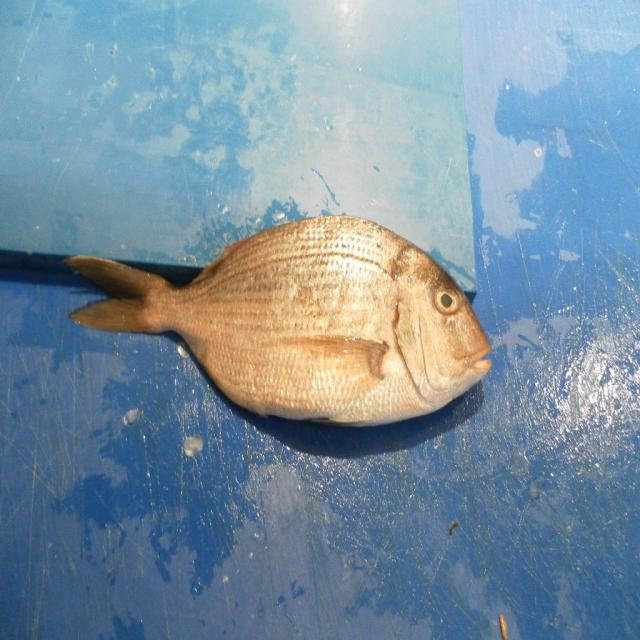Red-Sea-Bream-mercan-: (57, 216, 492, 430)
